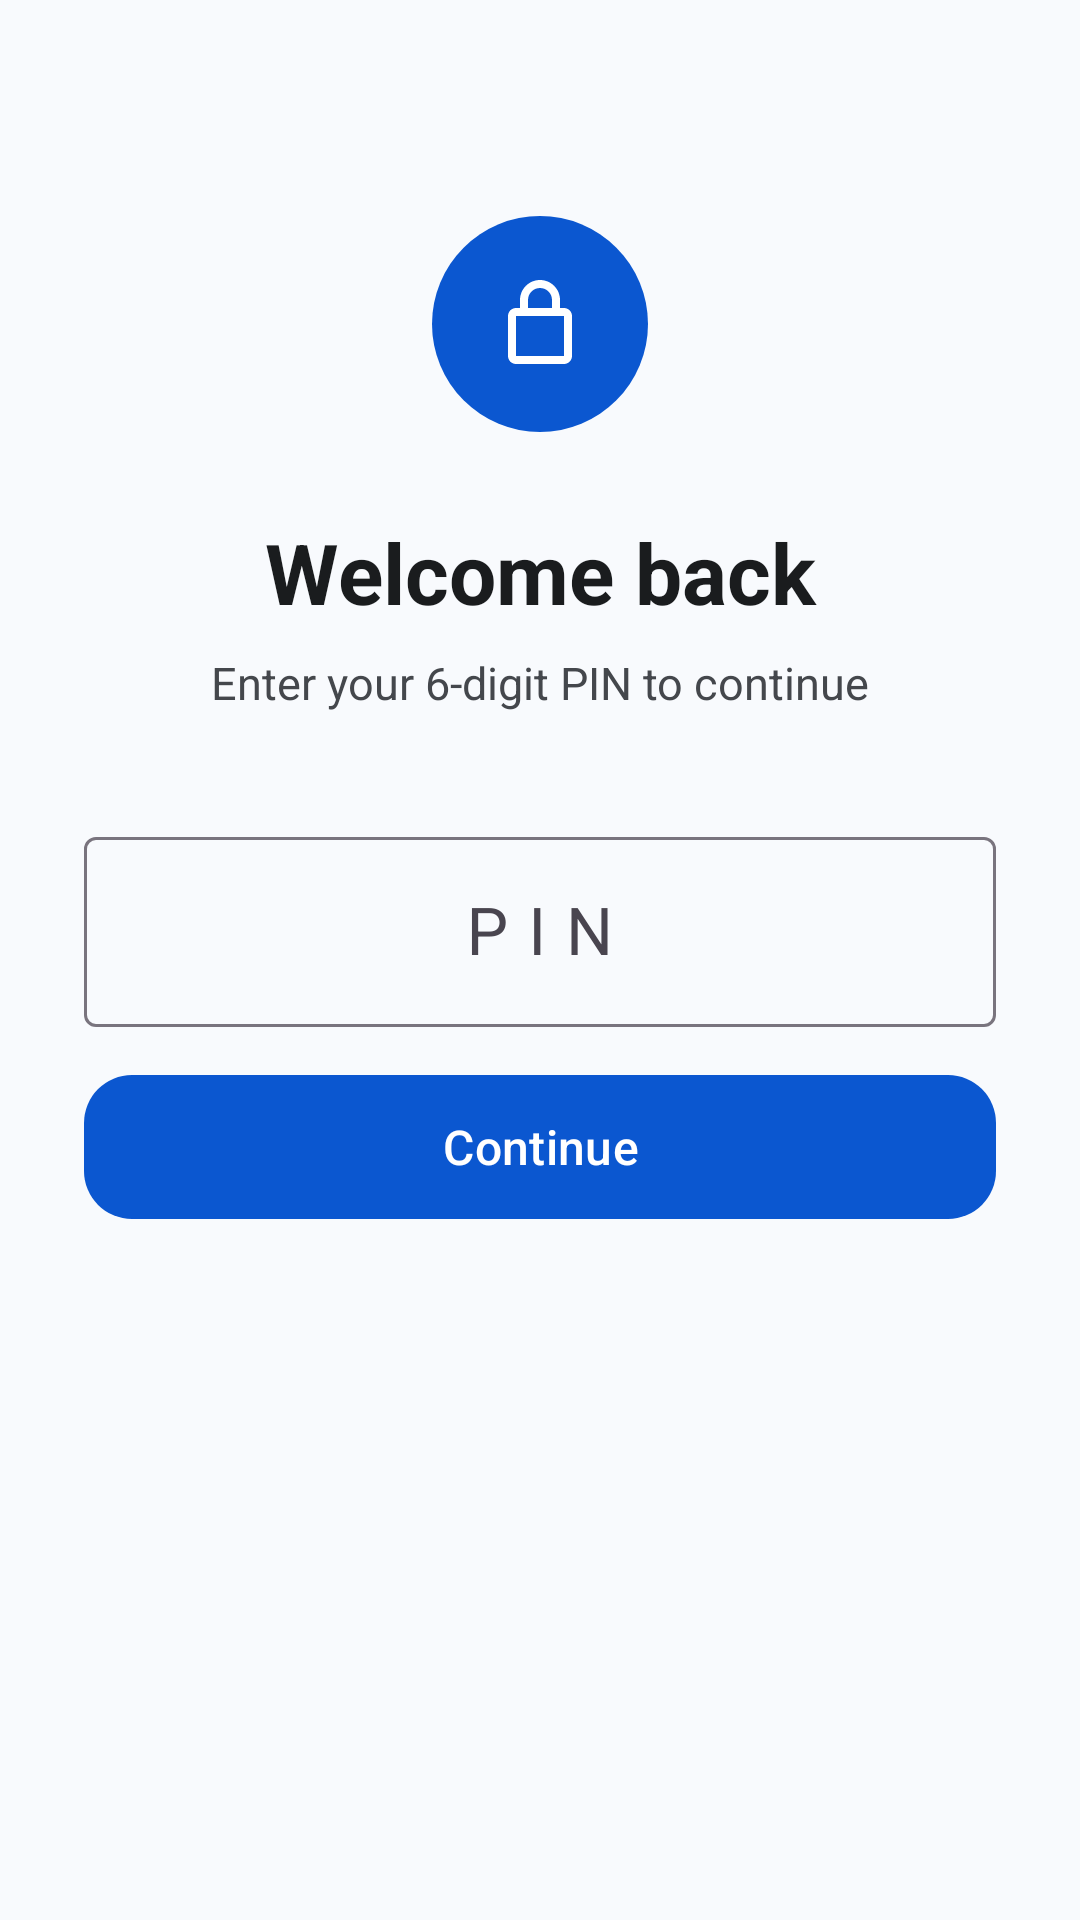

Point at icon controls on the screen. Image size 1080px x 1920px, points as [x,y].
lock: [540,322]
